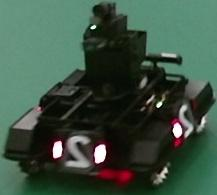armor_2: (53, 141, 106, 164)
